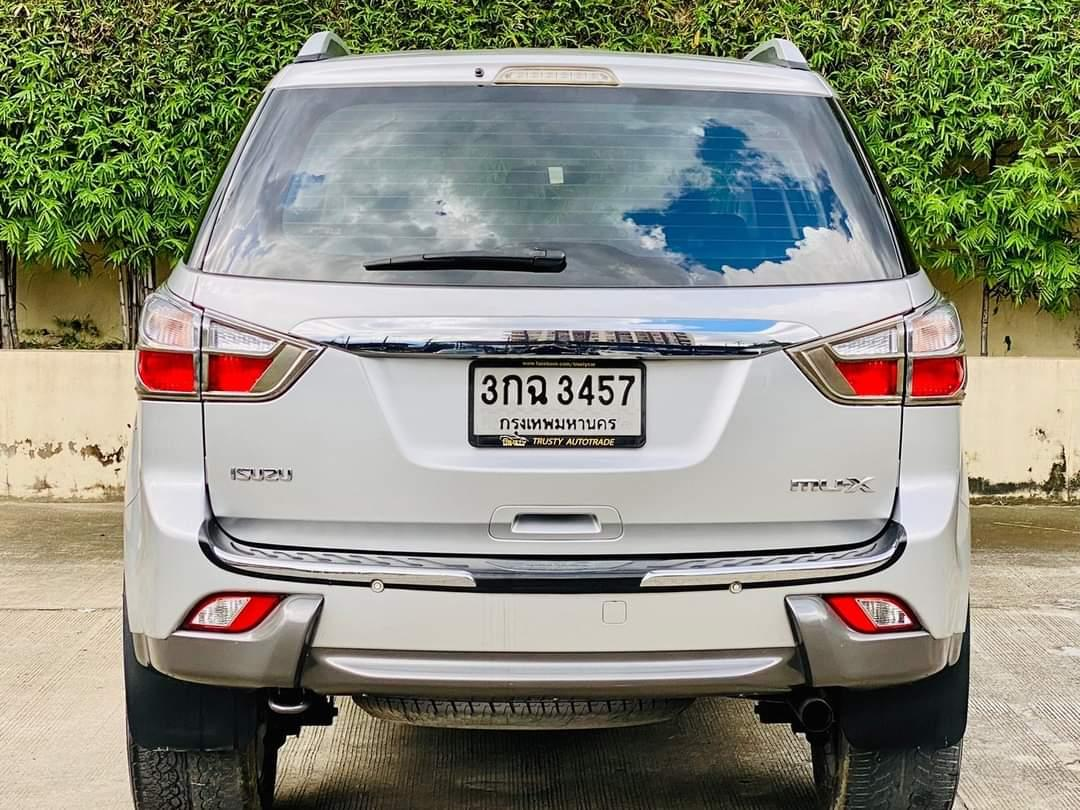license-plate: (466, 358, 649, 449)
